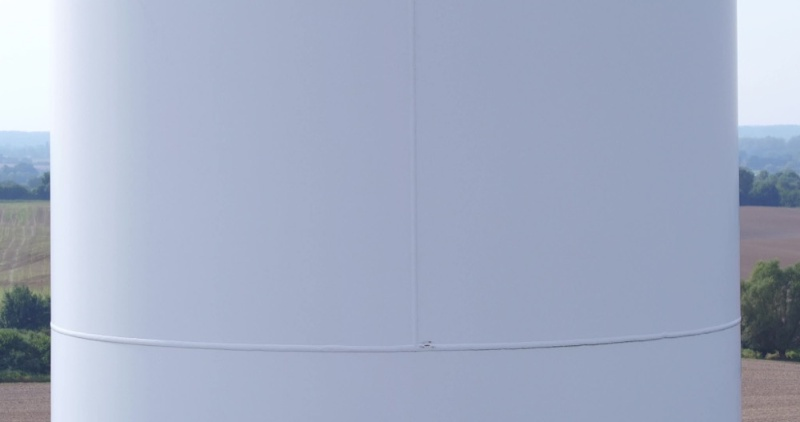weldseam: (48, 317, 742, 359), (406, 1, 429, 356)
